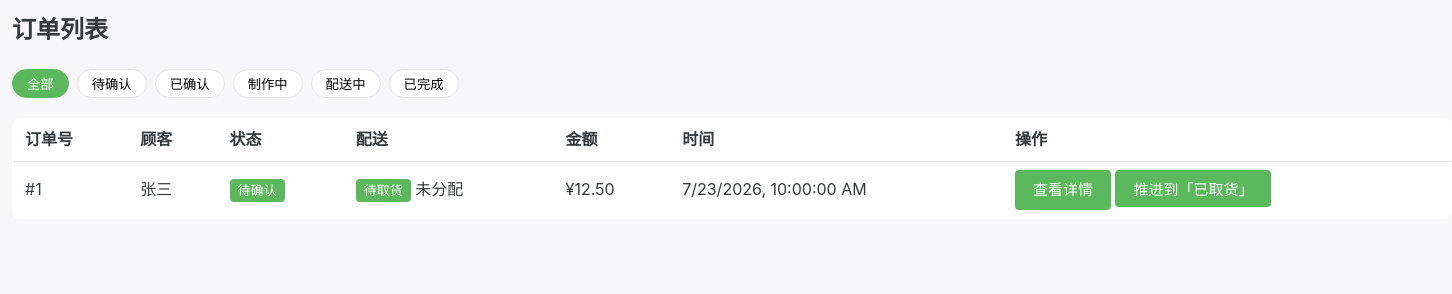
Test: OrderListPage › 推进失败：显示后端错误文案，列表不清空
Click the button with test id "delivery-push-btn" at [1193, 188], box x1=1115 y1=170 x2=1271 y2=207
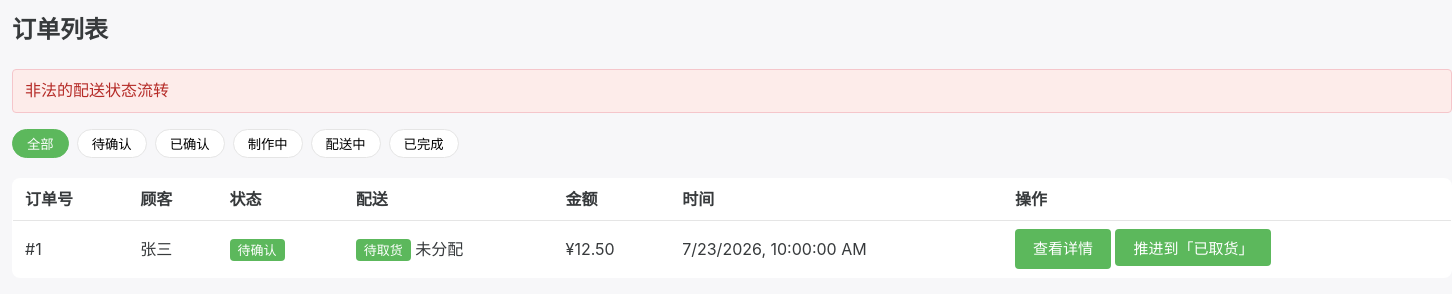
Expected: the text "#1" is shown, x1=12 y1=221 x2=128 y2=278
Expected: the text "非法的配送状态流转" is shown, x1=12 y1=69 x2=1451 y2=113
